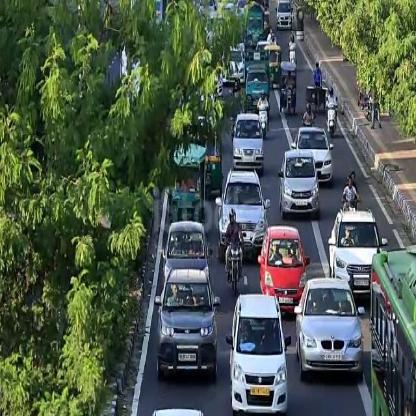bike: (224, 236, 244, 294), (324, 98, 338, 134), (286, 86, 292, 112)
car: (224, 290, 292, 414), (155, 264, 221, 384), (293, 276, 365, 382), (256, 222, 312, 314), (214, 165, 270, 255), (329, 208, 387, 294), (276, 146, 322, 222), (289, 124, 335, 186), (230, 110, 266, 174)
